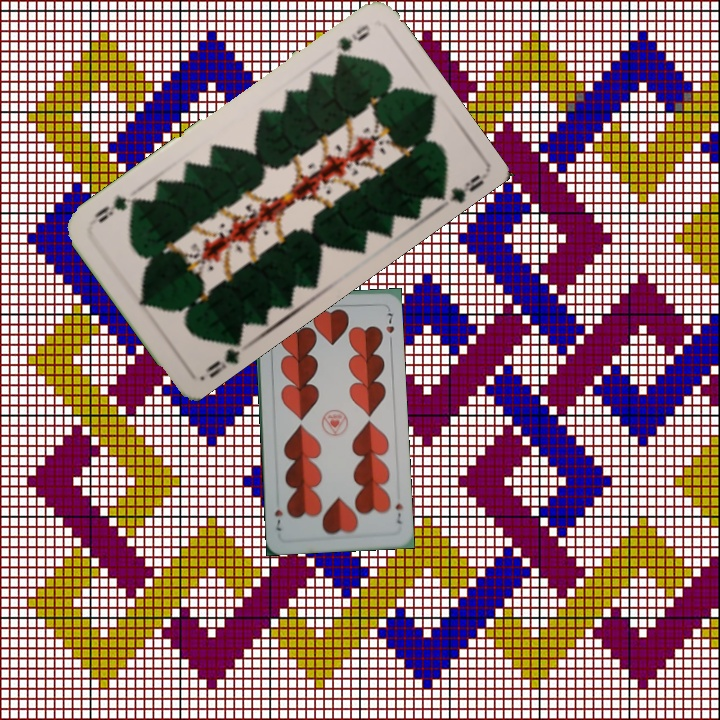G9: (329, 20, 374, 65), (201, 334, 244, 381)
H7: (391, 499, 405, 526)
